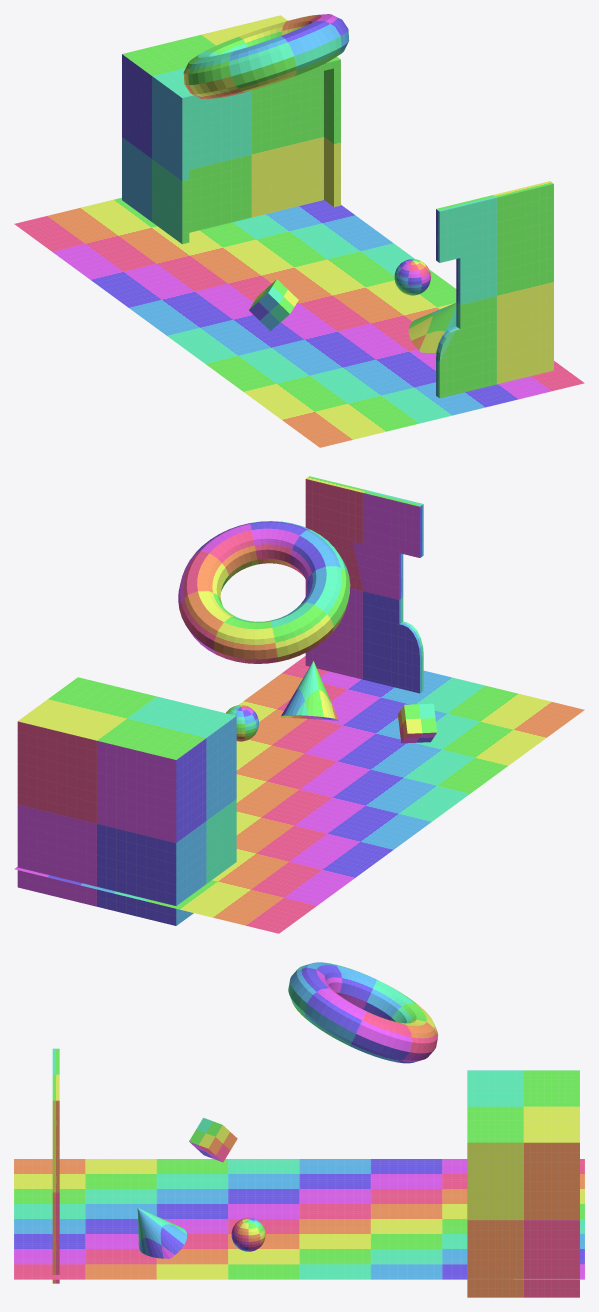
The model's file is depth_of_field_test.glb.
The picture shows the model from 3 angles, top to bottom: view 1: azimuth 30°, elevation 25°; view 2: azimuth 150°, elevation 25°; view 3: azimuth 270°, elevation 25°; orthographic projection. The views are drawn at different scales.
Visible parts, largest first — view 1: Plane, Cube.002, Cube, Torus.001, Cone, Cube.001, Sphere; view 2: Plane, Cube.002, Cube, Torus.001, Cone, Cube.001, Sphere; view 3: Plane, Cube.002, Torus.001, Cube, Cone, Cube.001, Sphere.
Part boxes in pixels (x1,y1,x2,y2): Plane: (14, 197, 584, 447); Cube.002: (122, 15, 340, 244); Cube: (436, 181, 553, 398); Torus.001: (183, 14, 349, 98); Cone: (408, 303, 456, 352); Cube.001: (249, 279, 298, 330); Sphere: (394, 259, 430, 295); Plane: (14, 656, 584, 933); Cube.002: (17, 677, 236, 925); Cube: (305, 476, 423, 693); Torus.001: (178, 521, 350, 663); Cone: (280, 661, 338, 720); Cube.001: (398, 703, 437, 743); Sphere: (226, 705, 258, 741); Plane: (14, 1159, 584, 1279); Cube.002: (467, 1070, 579, 1297); Torus.001: (288, 962, 438, 1063); Cube: (52, 1048, 59, 1283); Cone: (137, 1208, 186, 1258); Cube.001: (189, 1118, 237, 1162); Sphere: (231, 1217, 265, 1251).
Size of the model in its own units: 10 by 10.35 by 20.
Materials: 1 (1 with a texture image).
